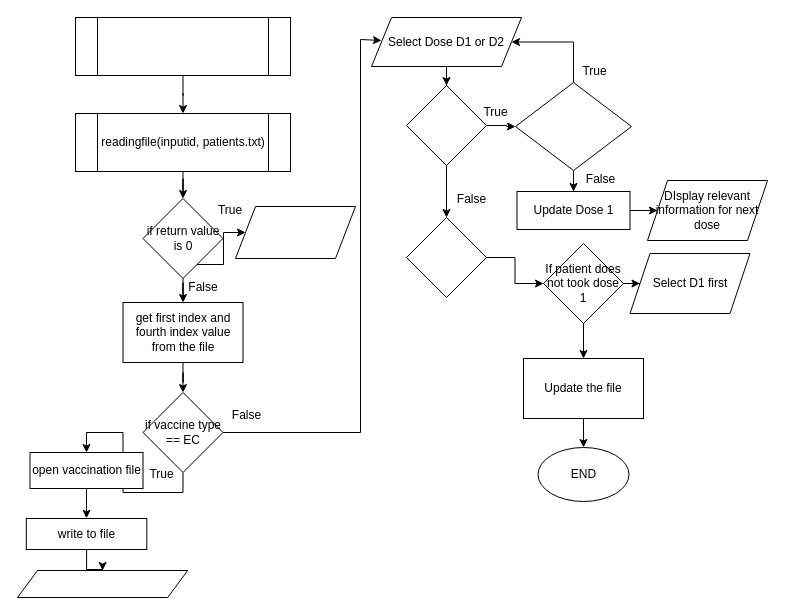
Some shapes in this 785 by 615 pixel diagram are drawn without their labels. The centre of each missing label's shape, as x and y in pixels:
"fully vaccinated status" belongs at (x=102, y=584).
"ID not found." belongs at (x=295, y=232).
"If D1" belongs at (x=446, y=125).
"If D2" belongs at (x=446, y=257).
"Is patient already vaccinated with first dose" belongs at (x=573, y=126).
"vaccineadministration(inputid)" belongs at (x=182, y=46).
